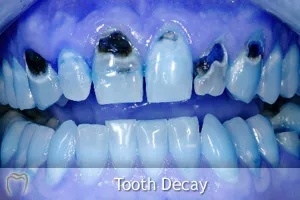karies: (195, 43, 227, 75), (98, 30, 133, 58), (24, 49, 48, 74), (269, 120, 297, 140), (110, 61, 139, 78), (246, 38, 266, 60), (158, 30, 180, 44)
